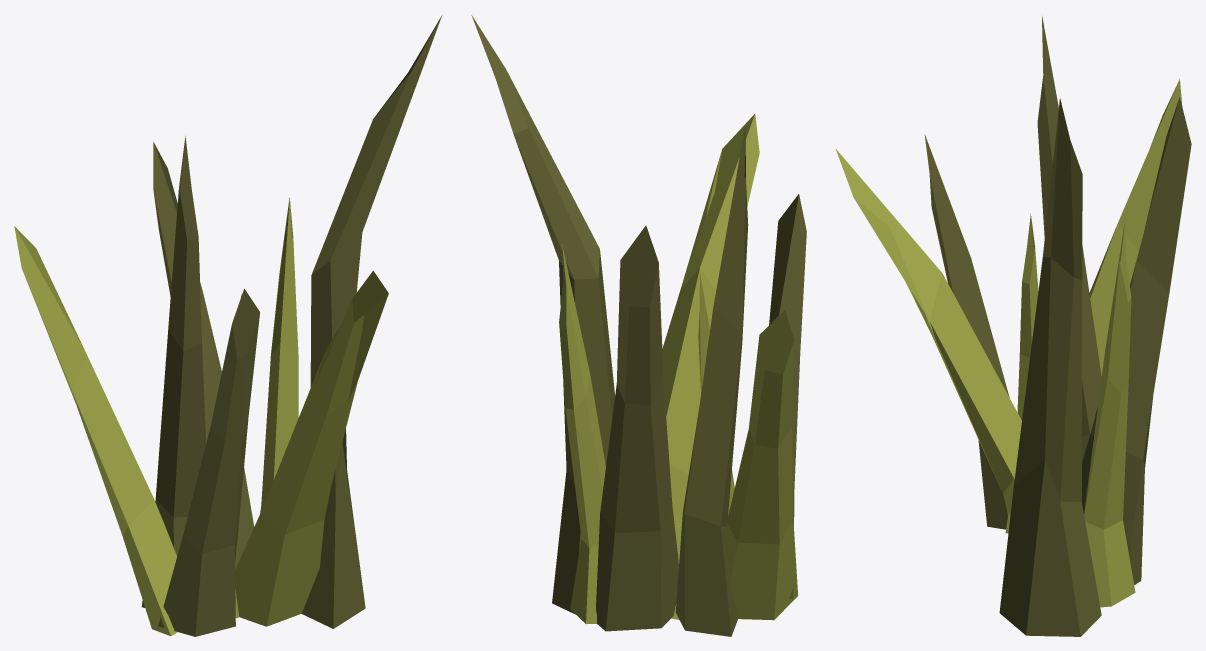
Rendered from Grasbüschel.fbx.
The picture shows the model from 3 angles, left to right: view 1: azimuth 30°, elevation 25°; view 2: azimuth 150°, elevation 25°; view 3: azimuth 270°, elevation 25°; orthographic projection. The views are drawn at different scales.
Parts seen in each view (by area): view 1: Grasbüschel; view 2: Grasbüschel; view 3: Grasbüschel.
Boxes of the visible parts, x1,y1,x2,y2 form: Grasbüschel: [14, 15, 442, 636]; Grasbüschel: [471, 15, 806, 636]; Grasbüschel: [836, 16, 1191, 636].
Bounding box in the file's own units: 0.3962 × 0.57 × 0.3139.
